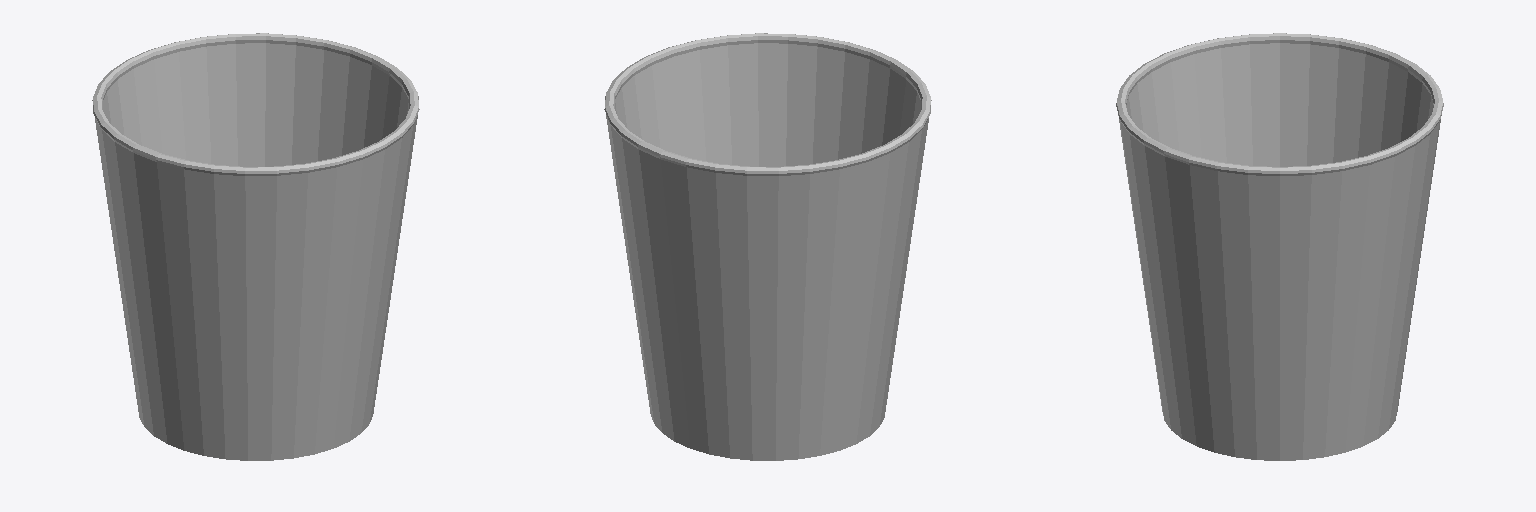
File: pot.obj
3 views of the same model, side by side, from view 1: azimuth 30°, elevation 25°; view 2: azimuth 150°, elevation 25°; view 3: azimuth 270°, elevation 25° (orthographic).
Parts seen in each view (by area): view 1: Cylinder; view 2: Cylinder; view 3: Cylinder.
Boxes of the visible parts, <box> form: Cylinder: <box>92,33,419,460</box>; Cylinder: <box>604,33,931,460</box>; Cylinder: <box>1116,33,1443,460</box>.
Bounding box in the file's own units: 1.17 × 1.22 × 1.17.